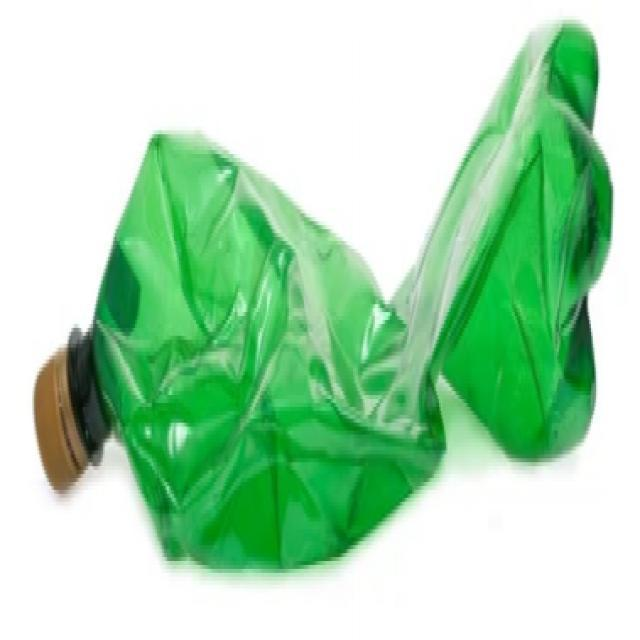Botella de plastico: (39, 24, 612, 568)
